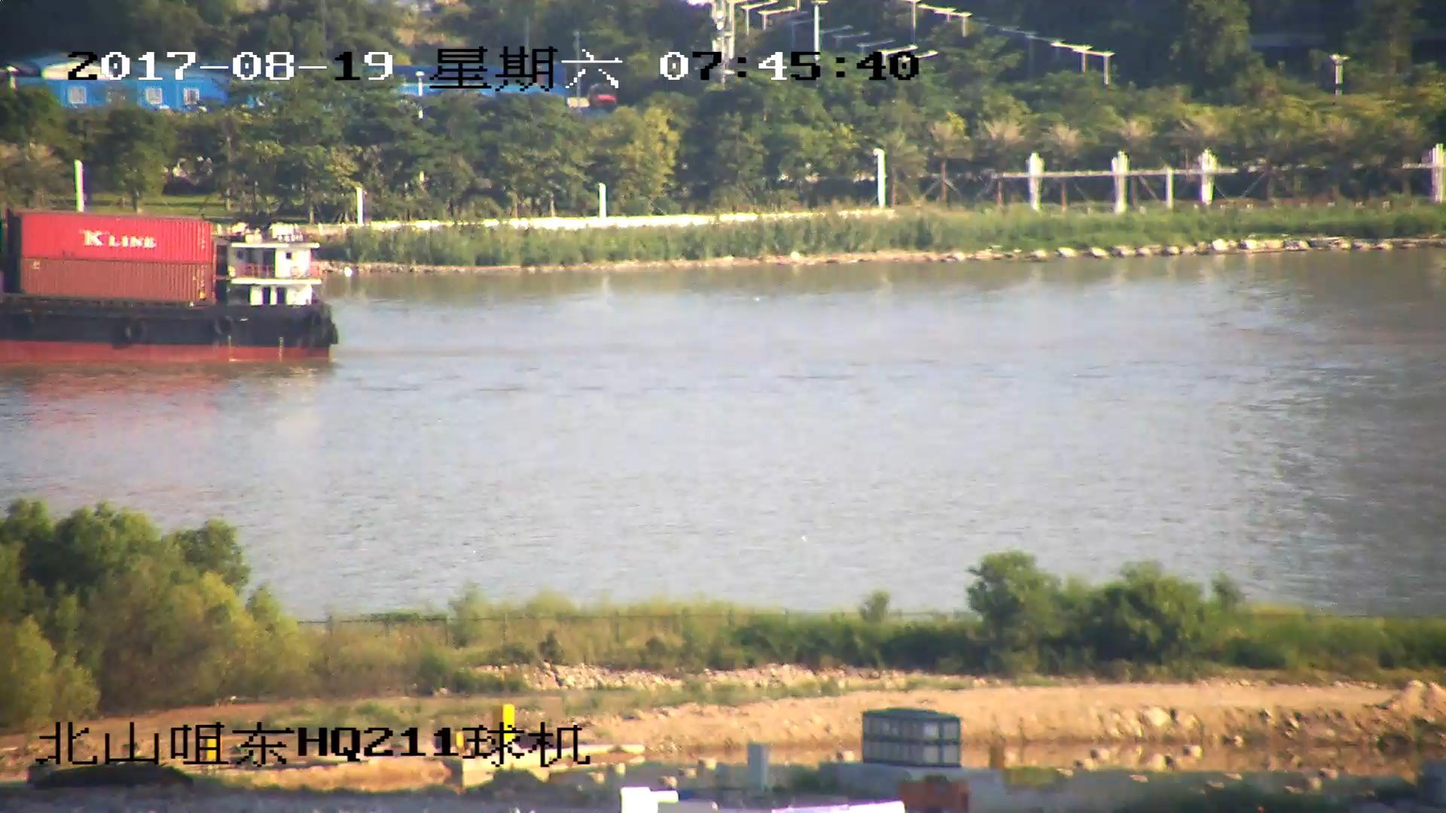container ship: (0, 207, 334, 364)
